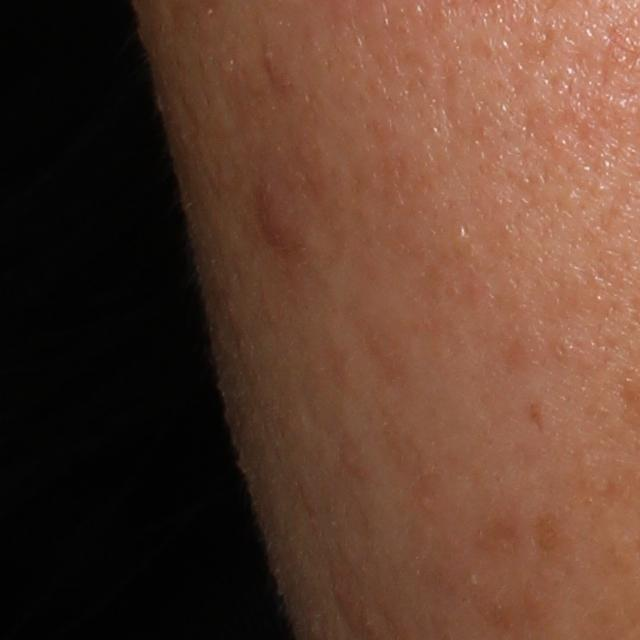papule: (255, 175, 297, 245)
